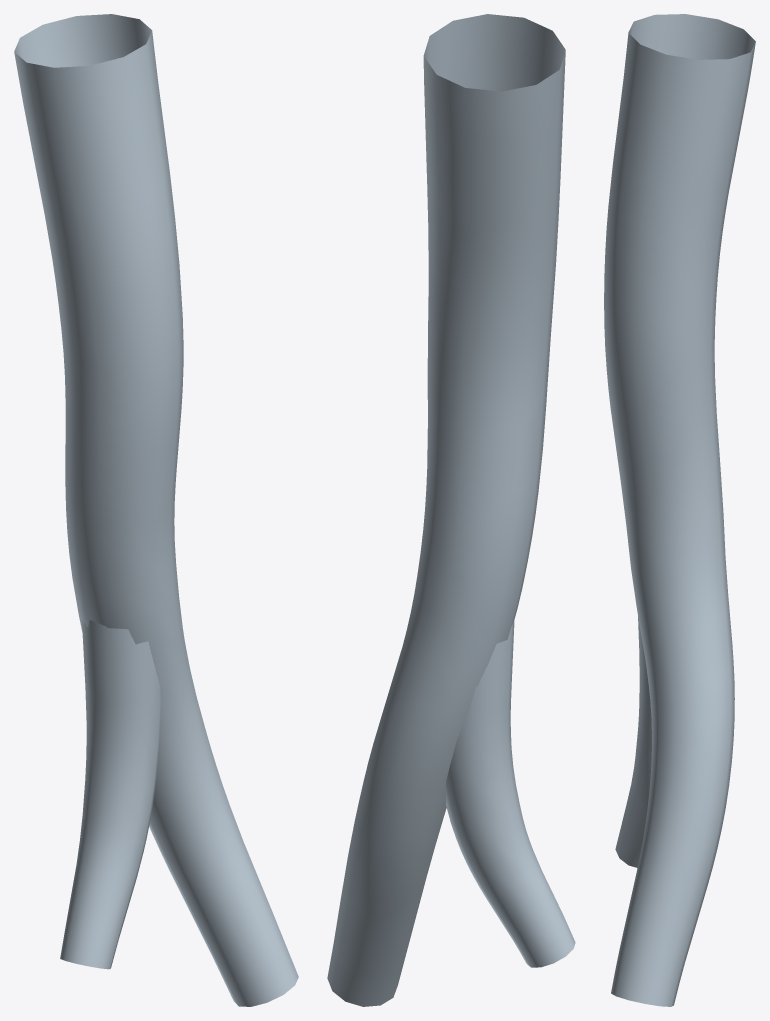
Rendered from visceras-medial-basal-segmental-bronchus-of-right-lung-bvii.glb.
The picture shows the model from 3 angles, left to right: view 1: azimuth 30°, elevation 25°; view 2: azimuth 150°, elevation 25°; view 3: azimuth 270°, elevation 25°; orthographic projection. The views are drawn at different scales.
Visible parts, largest first — view 1: Medial basal segmental bronchus of right lung (BVII); view 2: Medial basal segmental bronchus of right lung (BVII); view 3: Medial basal segmental bronchus of right lung (BVII).
Part boxes in pixels (x1=…): Medial basal segmental bronchus of right lung (BVII): x1=14, y1=14, x2=298, y2=1006; Medial basal segmental bronchus of right lung (BVII): x1=327, y1=14, x2=575, y2=1006; Medial basal segmental bronchus of right lung (BVII): x1=604, y1=14, x2=755, y2=1006.
Size of the model in its own units: 0.0162 by 0.0623 by 0.00942.
